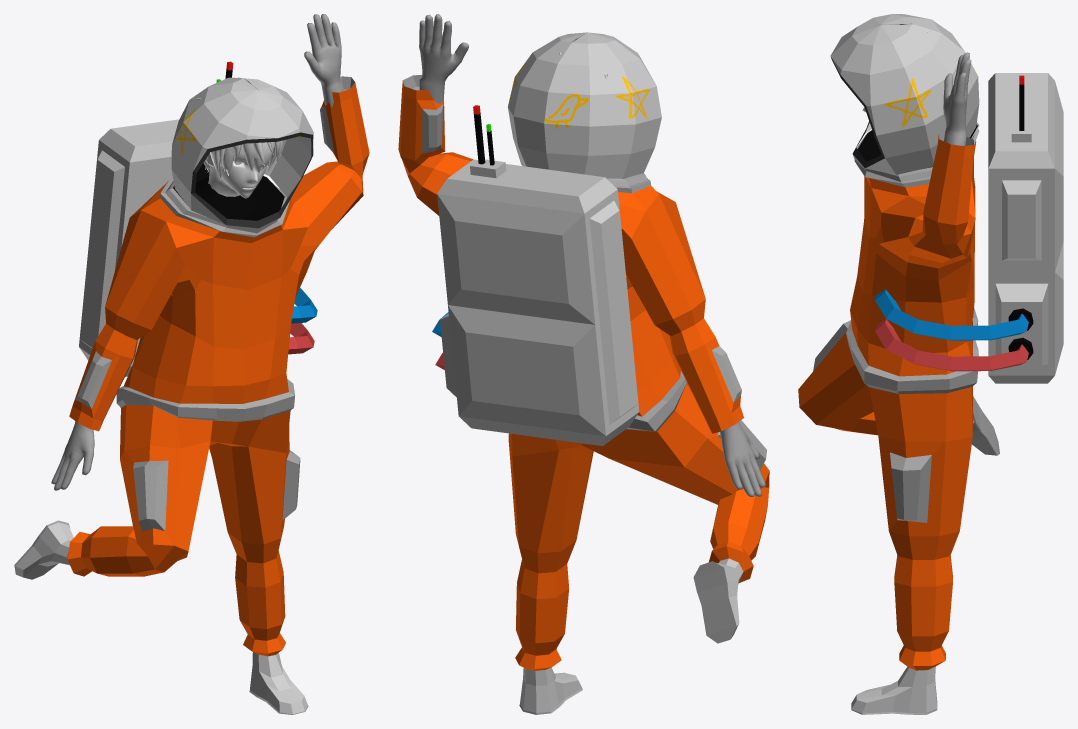
The model's file is arios.glb.
The picture shows the model from 3 angles, left to right: view 1: azimuth 30°, elevation 25°; view 2: azimuth 150°, elevation 25°; view 3: azimuth 270°, elevation 25°; orthographic projection. The views are drawn at different scales.
Visible parts, largest first — view 1: Flight Suit; view 2: Flight Suit; view 3: Flight Suit.
Boxes of the visible parts, x1=… form: Flight Suit: x1=14, y1=14, x2=369, y2=714; Flight Suit: x1=398, y1=14, x2=769, y2=714; Flight Suit: x1=798, y1=14, x2=1063, y2=714.
Size of the model in its own units: 1.11 by 2.05 by 0.7115.
3 materials, 2 textured.
